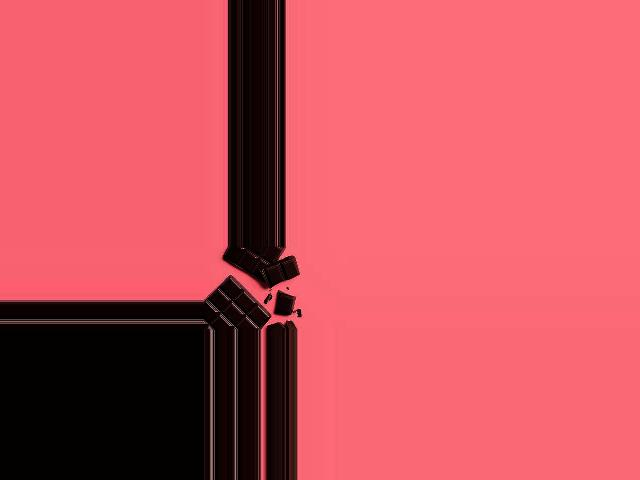chocolate: (202, 251, 293, 329)
